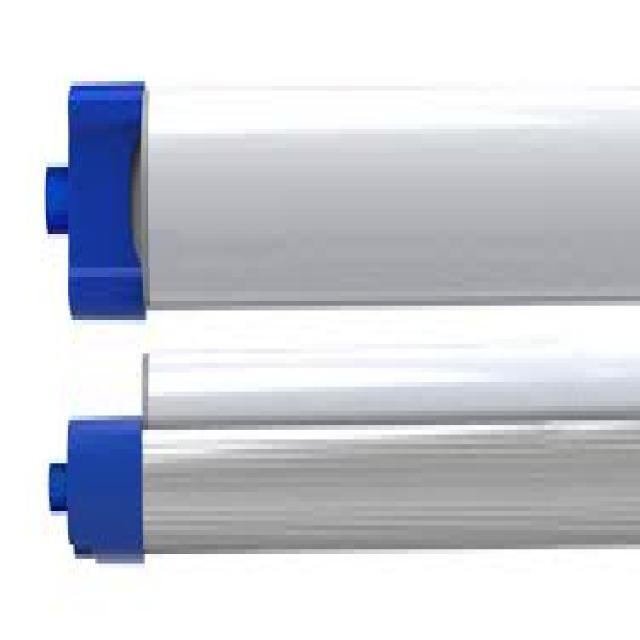tubelight_off: (39, 86, 640, 318), (49, 416, 640, 566), (129, 346, 640, 430)
